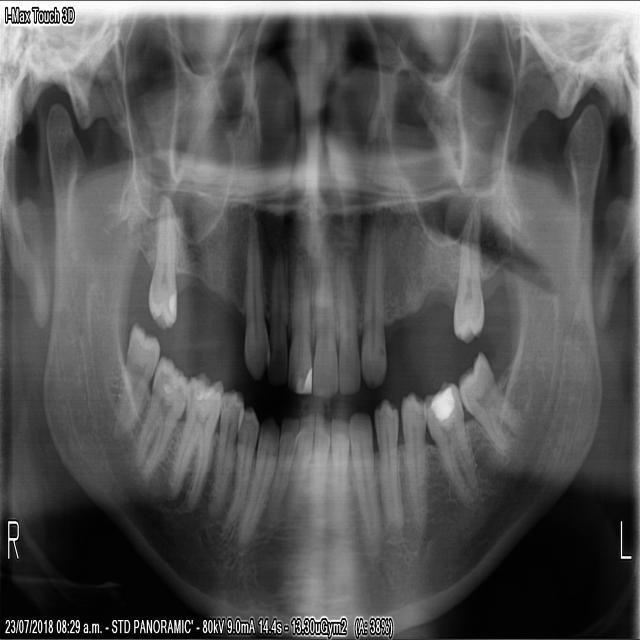LCD: (345, 405, 380, 570)
LCU: (358, 199, 388, 392)
LID: (328, 413, 350, 549), (309, 409, 331, 541)
LIU: (310, 243, 338, 403), (336, 246, 361, 401)
LMD: (420, 375, 481, 511), (455, 346, 519, 452)
LMU: (449, 193, 485, 344)
LPMD: (371, 393, 404, 535), (399, 386, 428, 535)
RCD: (234, 407, 280, 548)
RCU: (240, 207, 270, 382)
RID: (265, 413, 298, 528), (284, 408, 316, 523)
RIU: (285, 242, 311, 397), (264, 234, 286, 388)
RMD: (167, 367, 225, 511), (131, 350, 189, 479), (112, 319, 161, 433)
RMU: (145, 190, 177, 330)
RPMD: (217, 401, 260, 531), (204, 386, 244, 515)
